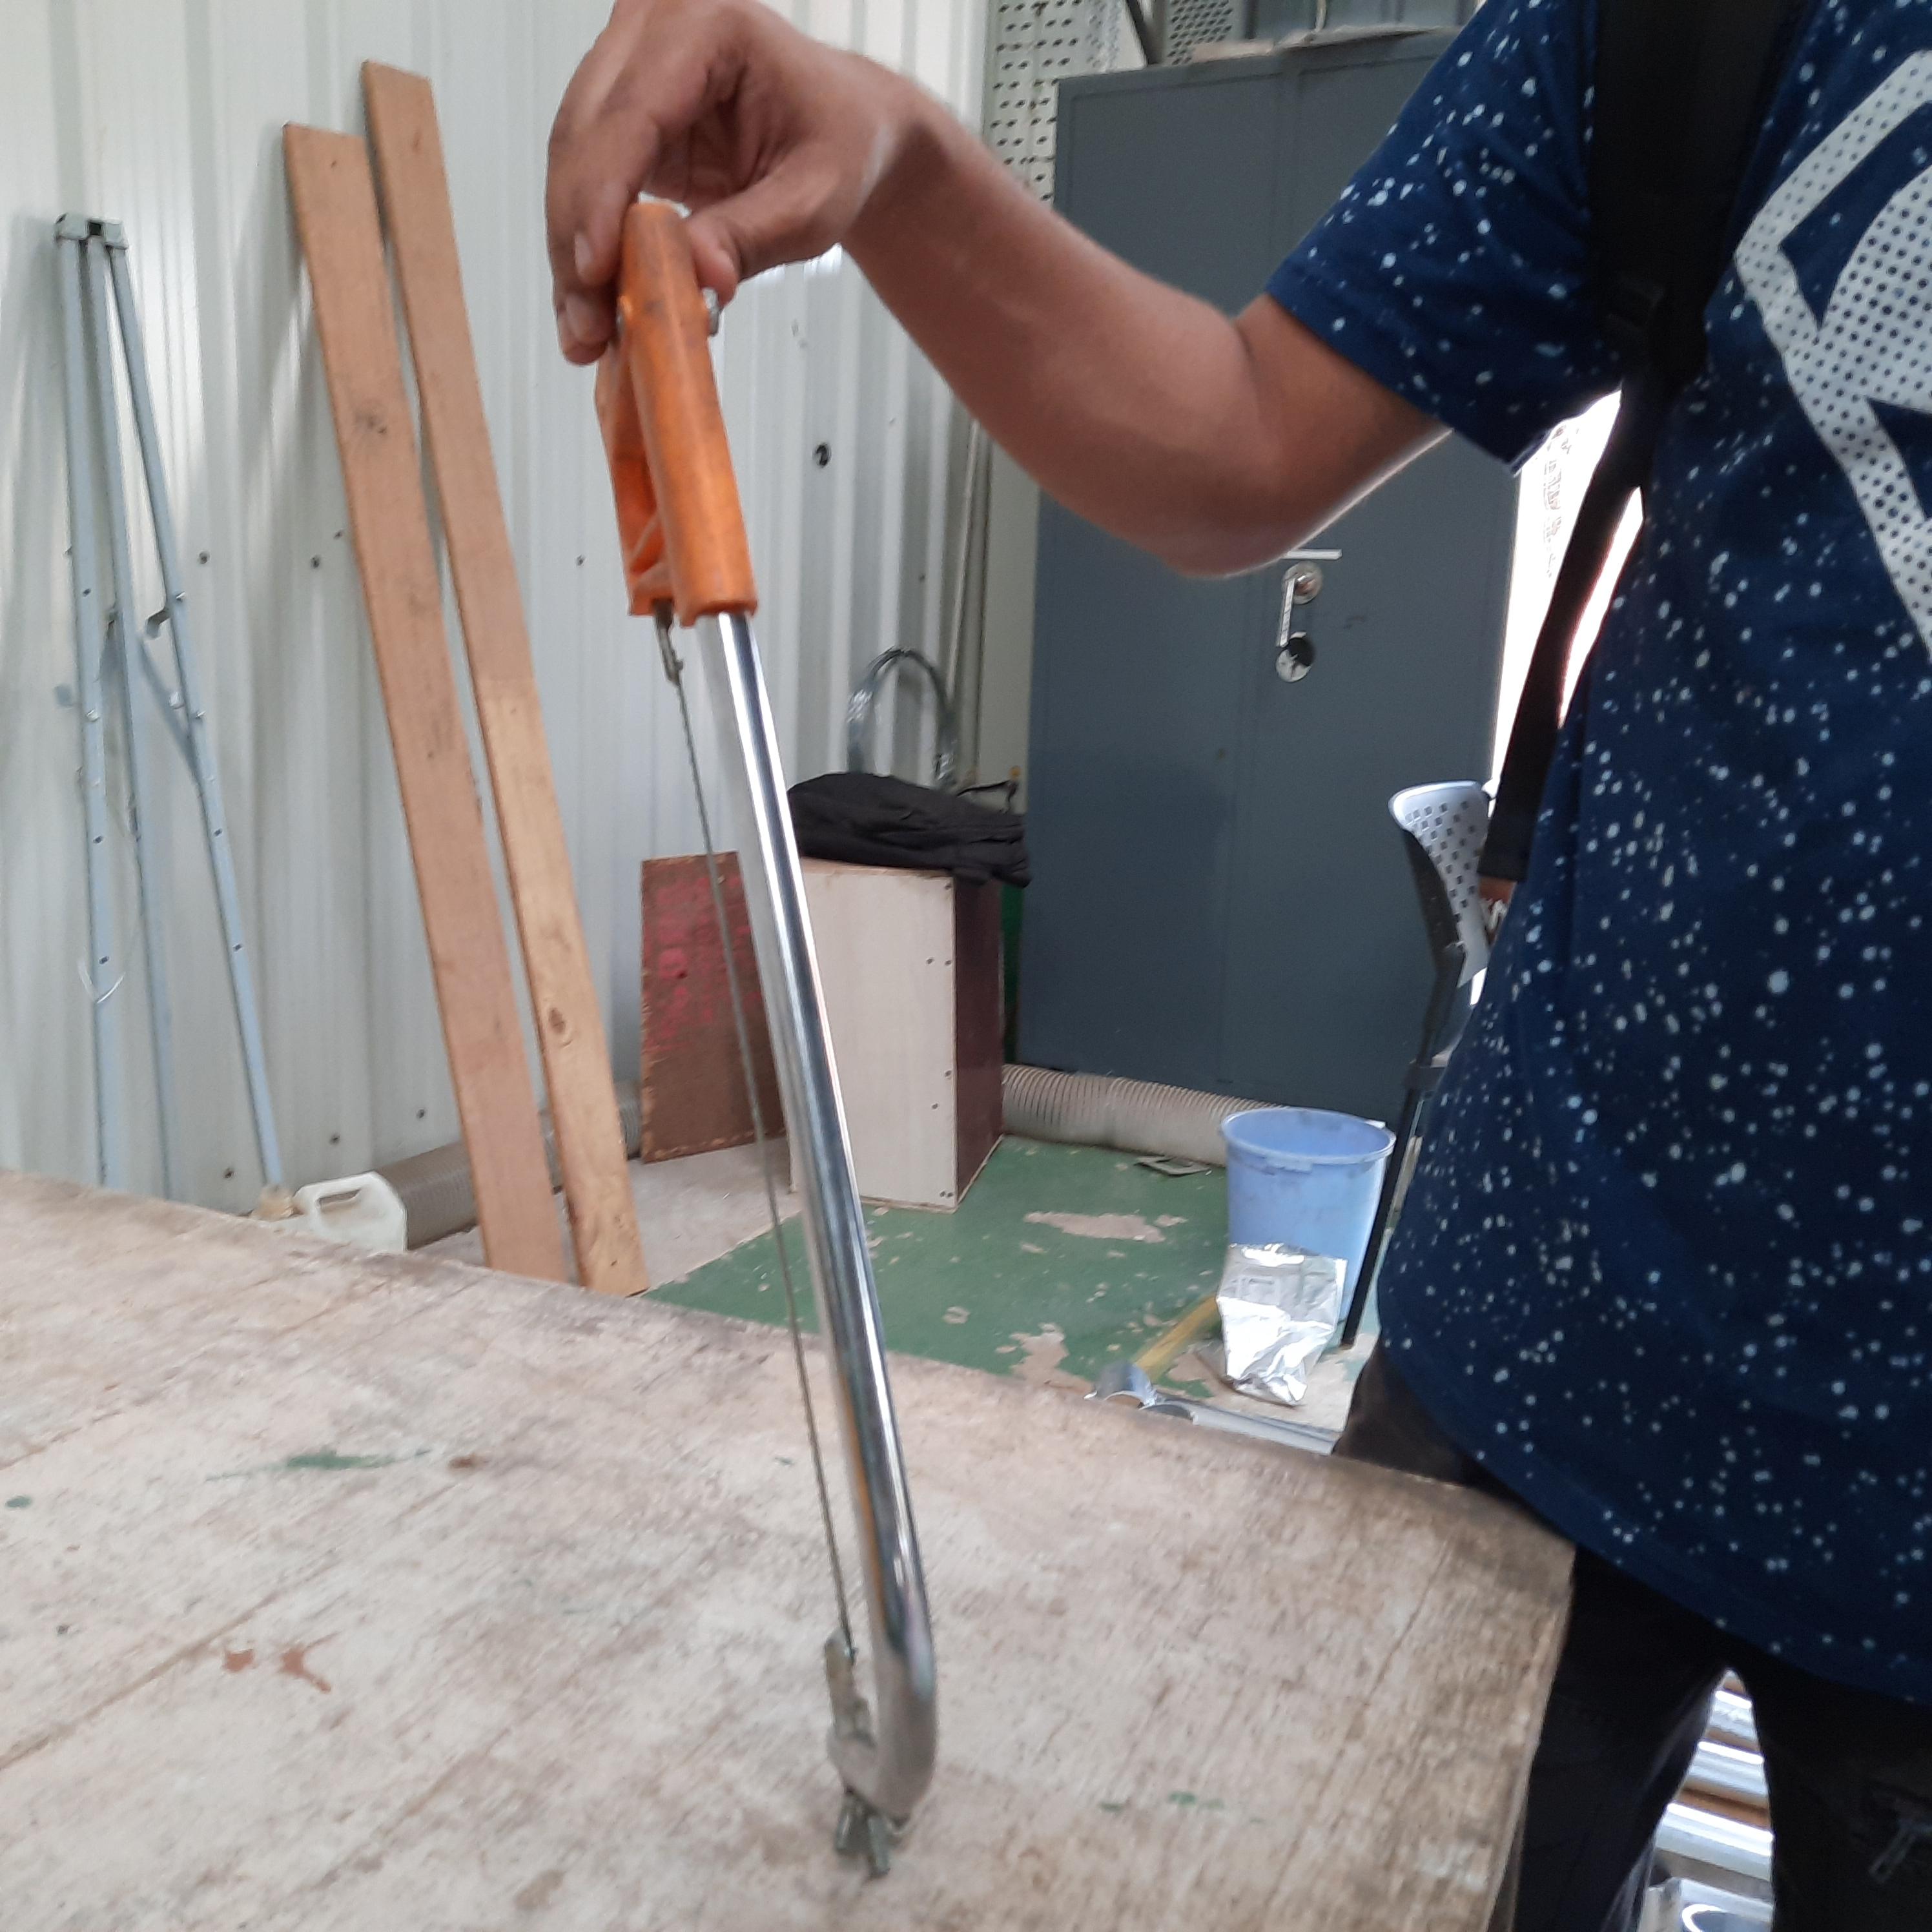Hexaframe: (541, 209, 1058, 1893)
